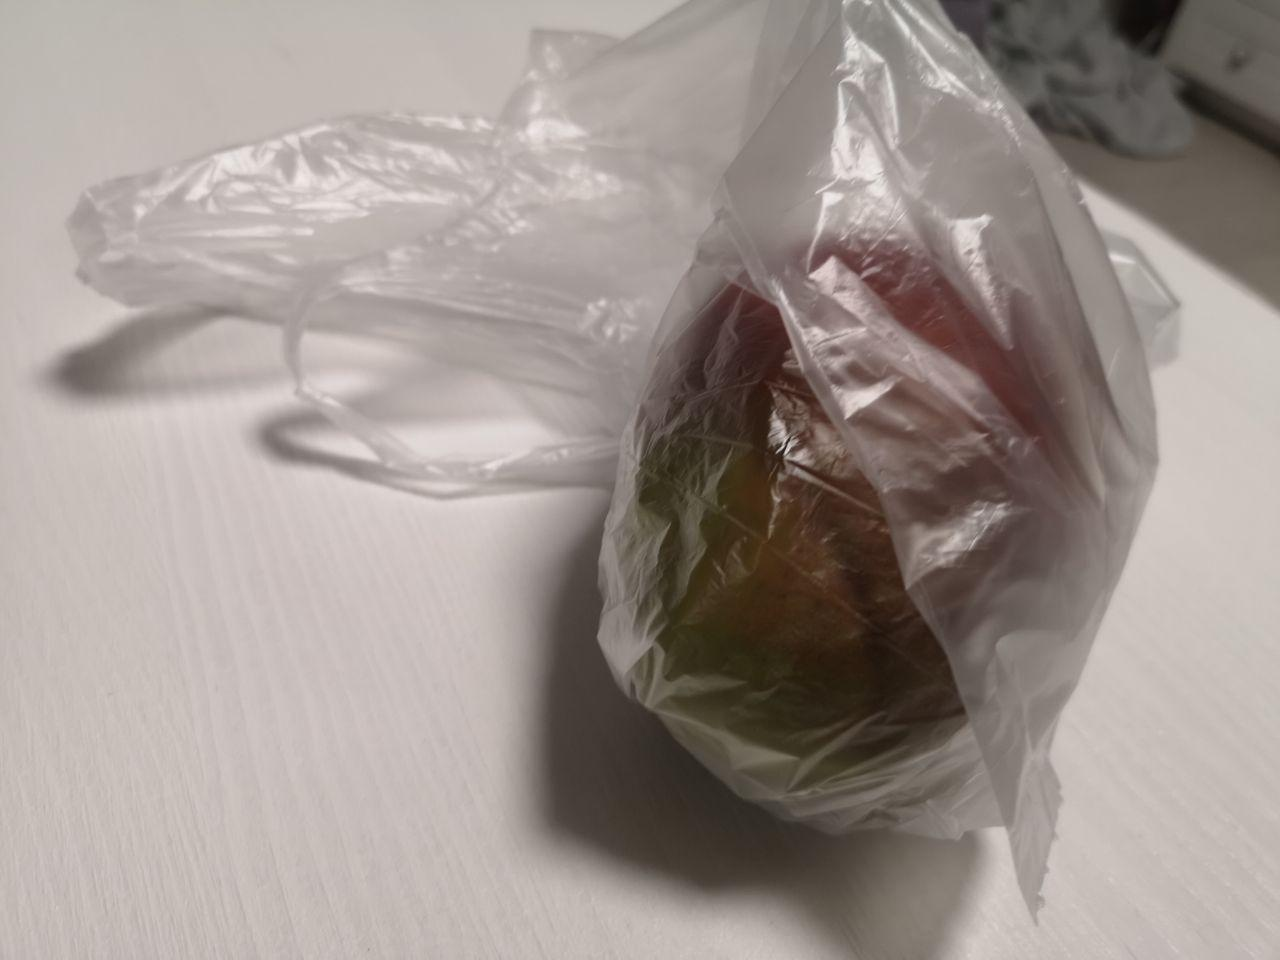mango: (531, 166, 1220, 923)
